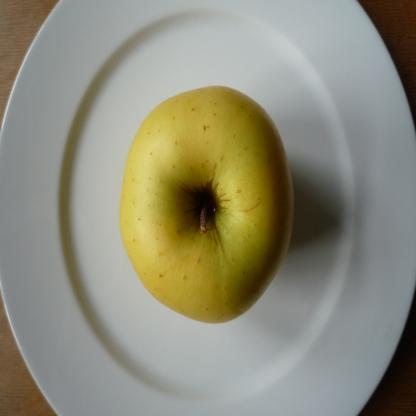Apple: (119, 80, 292, 323)
